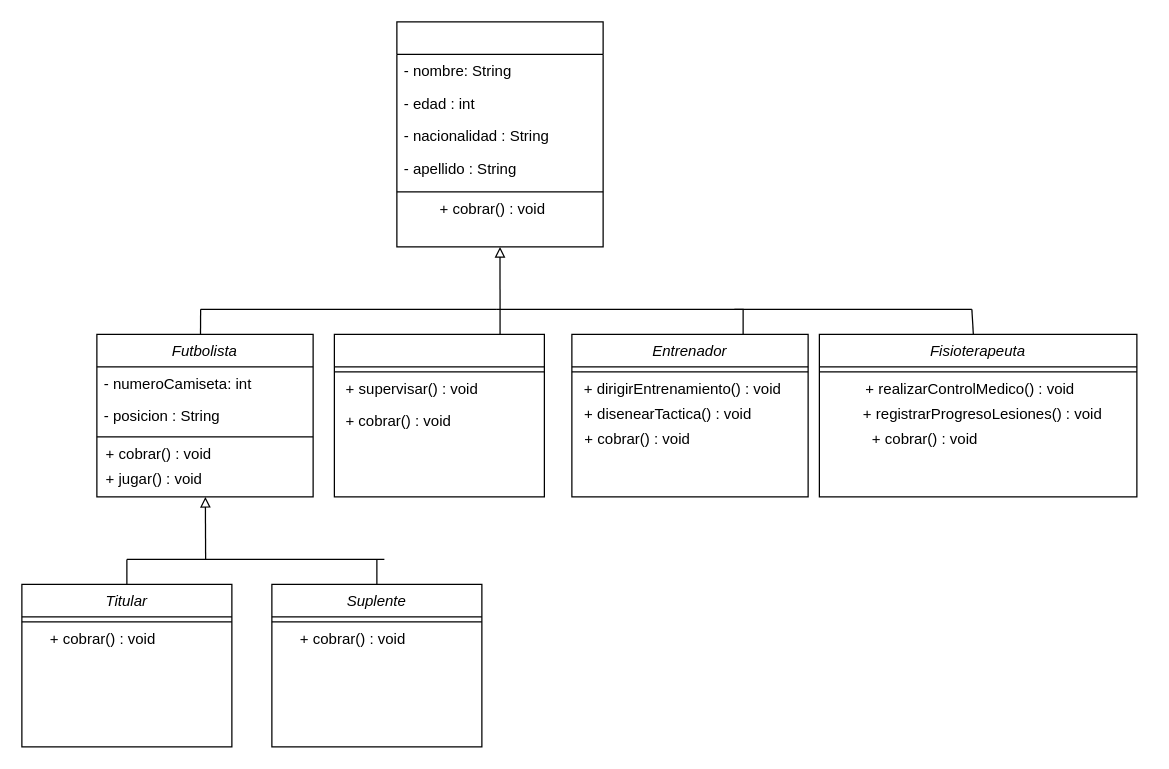
Image size: 1169x769. Some labels were removed from this diagram. The box of each missing label's shape, as (x1, y1, x2, y2) in pixels:
Miembro: (396, 21, 603, 247)
Presidente: (333, 333, 544, 497)
